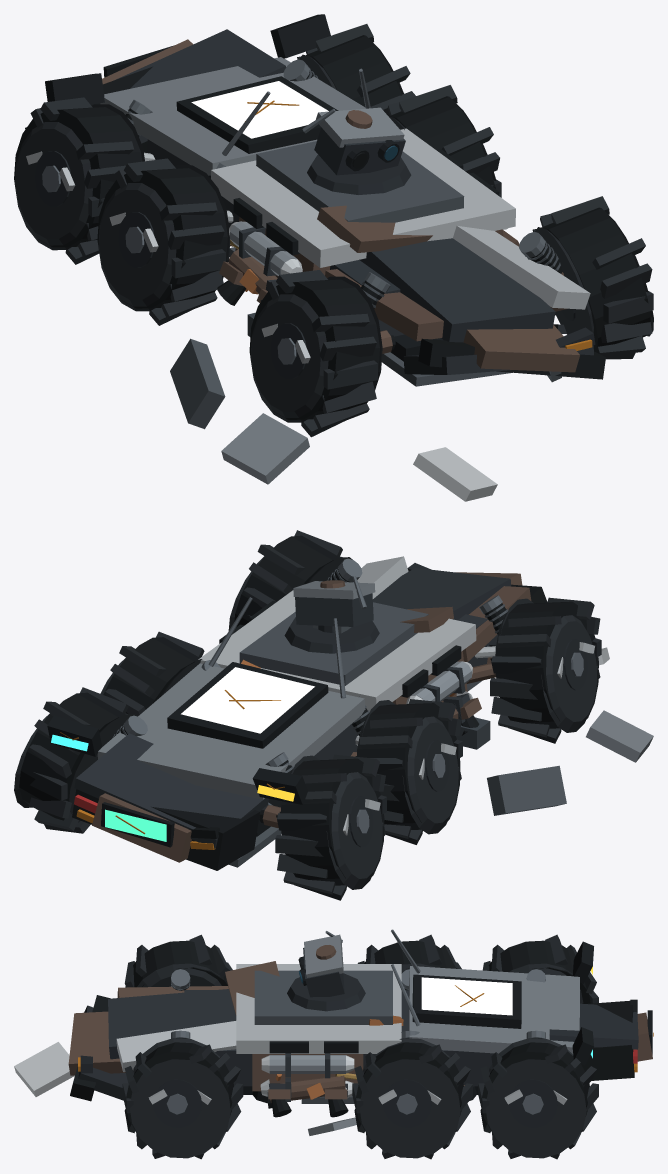
Rendered from r47xs_recon_rover_d2_lod0.glb.
3 views of the same model, one above another, from view 1: azimuth 30°, elevation 25°; view 2: azimuth 150°, elevation 25°; view 3: azimuth 270°, elevation 25° (orthographic). The views are drawn at different scales.
Visible parts, largest first — view 1: CHASSIS_ARMOR_BODY, ZONE_FRONT_BUMPER, WHEEL_FL, WHEEL_ML, WHEEL_RL, WHEEL_FR, ZONE_FLANK_NEG_X, ZONE_REAR_PANEL, WHEEL_RR, WHEEL_MR, SENSOR_MAST_HEAD, DISPLAY_FDAI_TELEMETRY_PANEL (+6 smaller); view 2: CHASSIS_ARMOR_BODY, ZONE_REAR_PANEL, WHEEL_FL, WHEEL_RL, WHEEL_ML, WHEEL_RR, ZONE_FRONT_BUMPER, WHEEL_FR, DISPLAY_FDAI_TELEMETRY_PANEL, WHEEL_MR, ZONE_FLANK_NEG_X, SENSOR_MAST_HEAD (+9 smaller); view 3: CHASSIS_ARMOR_BODY, ZONE_FRONT_BUMPER, WHEEL_FR, WHEEL_RR, WHEEL_MR, ZONE_FLANK_POS_X, ZONE_REAR_PANEL, WHEEL_FL, WHEEL_RL, DISPLAY_FDAI_TELEMETRY_PANEL, SENSOR_MAST_HEAD, WHEEL_ML (+6 smaller).
Boxes of the visible parts, left/top/right/bottom form: CHASSIS_ARMOR_BODY: left=100, top=57, right=515, bottom=361; ZONE_FRONT_BUMPER: left=325, top=226, right=605, bottom=386; WHEEL_FL: left=249, top=270, right=382, bottom=437; WHEEL_ML: left=97, top=158, right=230, bottom=325; WHEEL_RL: left=14, top=97, right=144, bottom=264; WHEEL_FR: left=532, top=196, right=653, bottom=359; ZONE_FLANK_NEG_X: left=45, top=73, right=330, bottom=294; ZONE_REAR_PANEL: left=91, top=29, right=286, bottom=152; WHEEL_RR: left=297, top=24, right=415, bottom=116; WHEEL_MR: left=387, top=85, right=501, bottom=197; SENSOR_MAST_HEAD: left=302, top=107, right=405, bottom=175; DISPLAY_FDAI_TELEMETRY_PANEL: left=191, top=81, right=328, bottom=138; CHASSIS_ARMOR_BODY: left=97, top=590, right=489, bottom=836; ZONE_REAR_PANEL: left=72, top=733, right=281, bottom=870; WHEEL_FL: left=490, top=597, right=601, bottom=743; WHEEL_RL: left=275, top=754, right=386, bottom=900; WHEEL_ML: left=357, top=699, right=462, bottom=844; WHEEL_RR: left=14, top=687, right=137, bottom=833; ZONE_FRONT_BUMPER: left=357, top=556, right=547, bottom=691; WHEEL_FR: left=228, top=530, right=352, bottom=630; DISPLAY_FDAI_TELEMETRY_PANEL: left=181, top=667, right=314, bottom=733; WHEEL_MR: left=100, top=631, right=204, bottom=715; ZONE_FLANK_NEG_X: left=252, top=618, right=472, bottom=804; SENSOR_MAST_HEAD: left=293, top=576, right=375, bottom=633; CHASSIS_ARMOR_BODY: left=184, top=961, right=579, bottom=1103; ZONE_FRONT_BUMPER: left=68, top=986, right=236, bottom=1101; WHEEL_FR: left=122, top=1038, right=243, bottom=1159; WHEEL_RR: left=478, top=1038, right=598, bottom=1159; WHEEL_MR: left=352, top=1038, right=472, bottom=1159; ZONE_FLANK_POS_X: left=252, top=964, right=593, bottom=1103; ZONE_REAR_PANEL: left=549, top=999, right=652, bottom=1080; WHEEL_FL: left=124, top=934, right=232, bottom=987; WHEEL_RL: left=482, top=934, right=598, bottom=1003; DISPLAY_FDAI_TELEMETRY_PANEL: left=421, top=977, right=512, bottom=1015; SENSOR_MAST_HEAD: left=298, top=931, right=344, bottom=997; WHEEL_ML: left=357, top=934, right=461, bottom=973.
Bounding box in the file's own units: 2.97 × 1.65 × 5.18.
